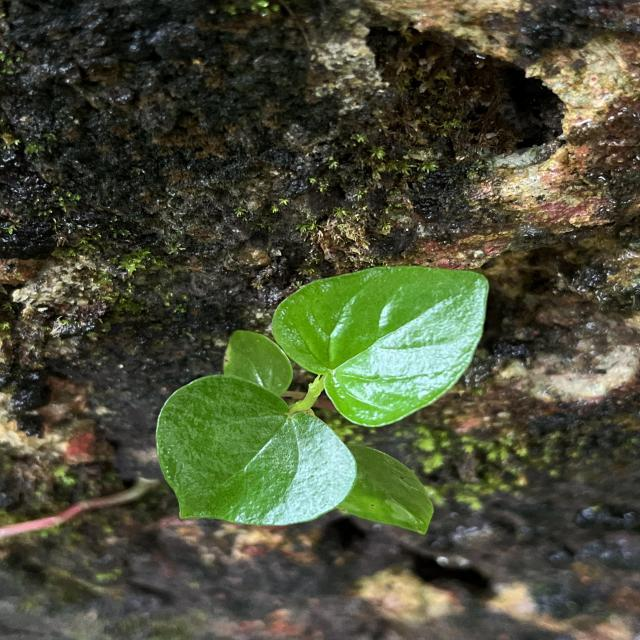Peperomia pellucida: (269, 264, 492, 430), (154, 372, 360, 526)
